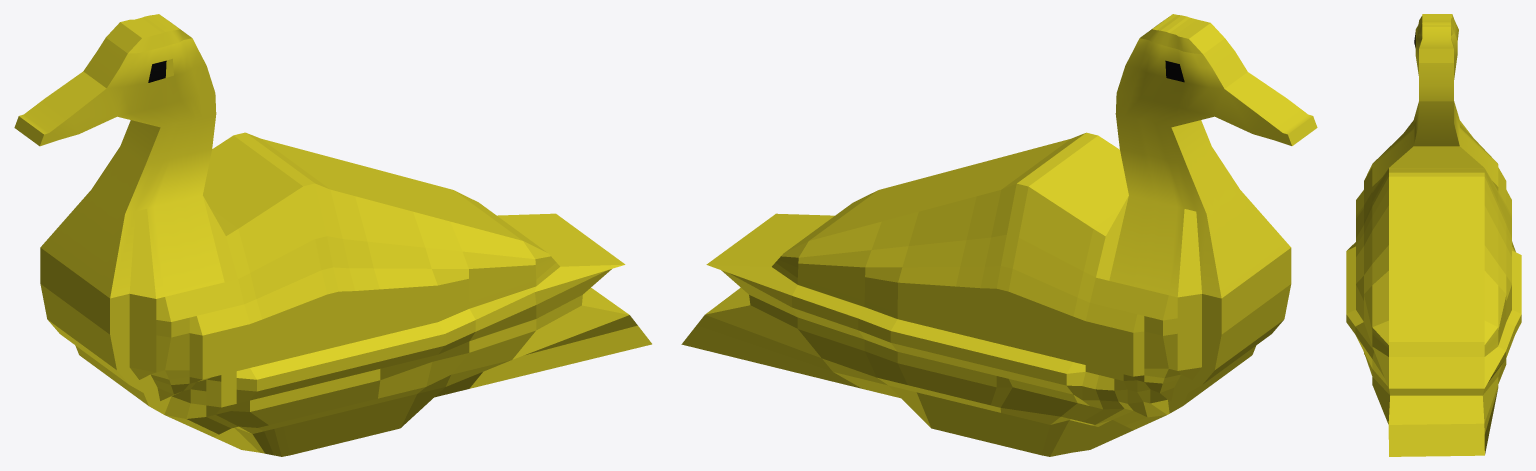
File: duck.fbx
3 renders of one model, left to right at view 1: azimuth 30°, elevation 25°; view 2: azimuth 150°, elevation 25°; view 3: azimuth 270°, elevation 25°, orthographic. The views are drawn at different scales.
Parts seen in each view (by area): view 1: pCube1; view 2: pCube1; view 3: pCube1.
Boxes of the visible parts, x1,y1,x2,y2 form: pCube1: (14,14,651,456); pCube1: (681,14,1317,456); pCube1: (1346,14,1521,456).
Size of the model in its own units: 6.79 by 4.72 by 2.54.
